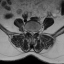CCS_stenosis: (31, 30, 33, 37)
LFS_stenosis: (35, 30, 36, 34)
LLS_normal: (33, 30, 35, 35)
RFS_stenosis: (28, 29, 30, 34)
RLS_stenosis: (30, 30, 32, 35)
